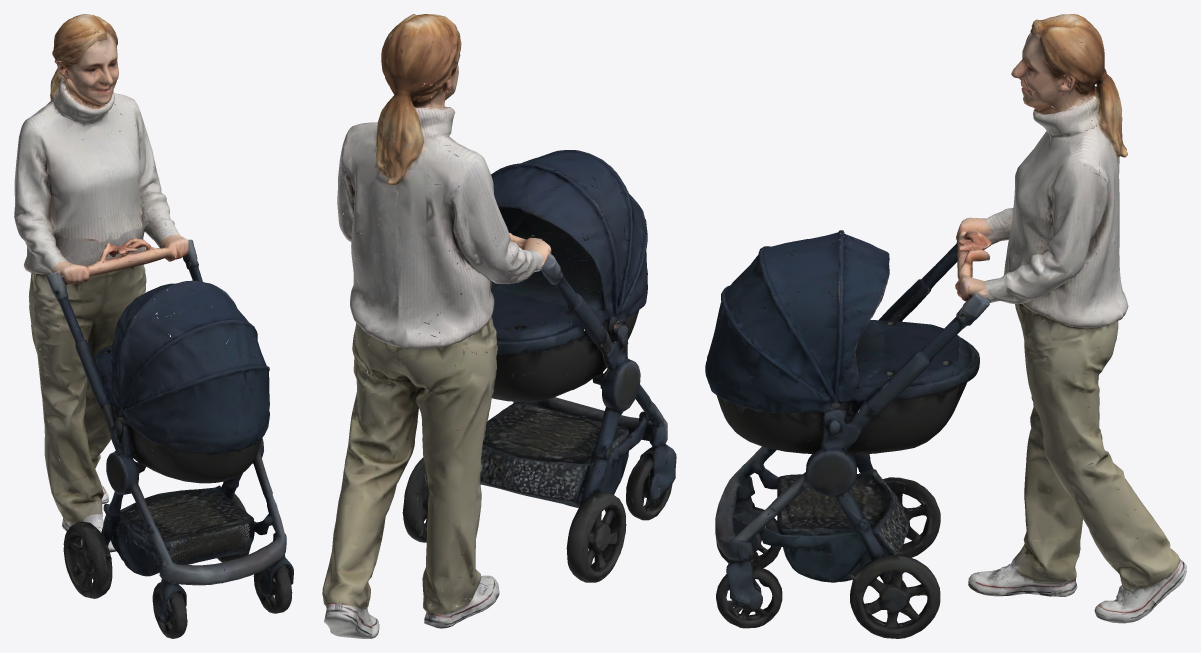
File: pedestrian-stroller.glb
The picture shows the model from 3 angles, left to right: view 1: azimuth 30°, elevation 25°; view 2: azimuth 150°, elevation 25°; view 3: azimuth 270°, elevation 25°; orthographic projection. The views are drawn at different scales.
Parts seen in each view (by area): view 1: Object_8, Object_7, Object_5, Object_4, Object_6, Object_9; view 2: Object_5, Object_6, Object_4, Object_9, Object_8, Object_7; view 3: Object_6, Object_4, Object_7, Object_9, Object_8, Object_5.
Boxes of the visible parts, x1=… form: Object_8: x1=14, y1=14, x2=202, y2=552; Object_7: x1=41, y1=31, x2=293, y2=638; Object_5: x1=24, y1=25, x2=286, y2=630; Object_4: x1=14, y1=14, x2=290, y2=614; Object_6: x1=14, y1=14, x2=293, y2=626; Object_9: x1=63, y1=275, x2=264, y2=598; Object_5: x1=322, y1=43, x2=672, y2=626; Object_6: x1=337, y1=16, x2=667, y2=638; Object_4: x1=322, y1=14, x2=675, y2=632; Object_9: x1=403, y1=155, x2=642, y2=582; Object_8: x1=324, y1=14, x2=576, y2=638; Object_7: x1=329, y1=22, x2=676, y2=638; Object_6: x1=714, y1=14, x2=1140, y2=638; Object_4: x1=719, y1=15, x2=1186, y2=633; Object_7: x1=705, y1=40, x2=1144, y2=628; Object_9: x1=783, y1=230, x2=954, y2=638; Object_8: x1=909, y1=15, x2=1185, y2=622; Object_5: x1=705, y1=23, x2=1186, y2=630.
Size of the model in its own units: 0.6164 by 1.9 by 1.42.
1 material, 1 textured.
